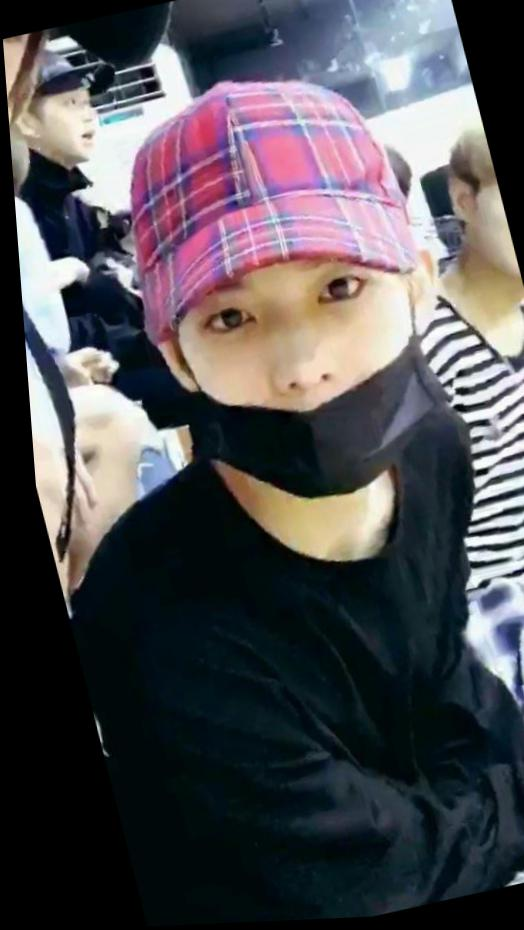NONE: (28, 87, 111, 177)
WRONG: (149, 219, 455, 506)
